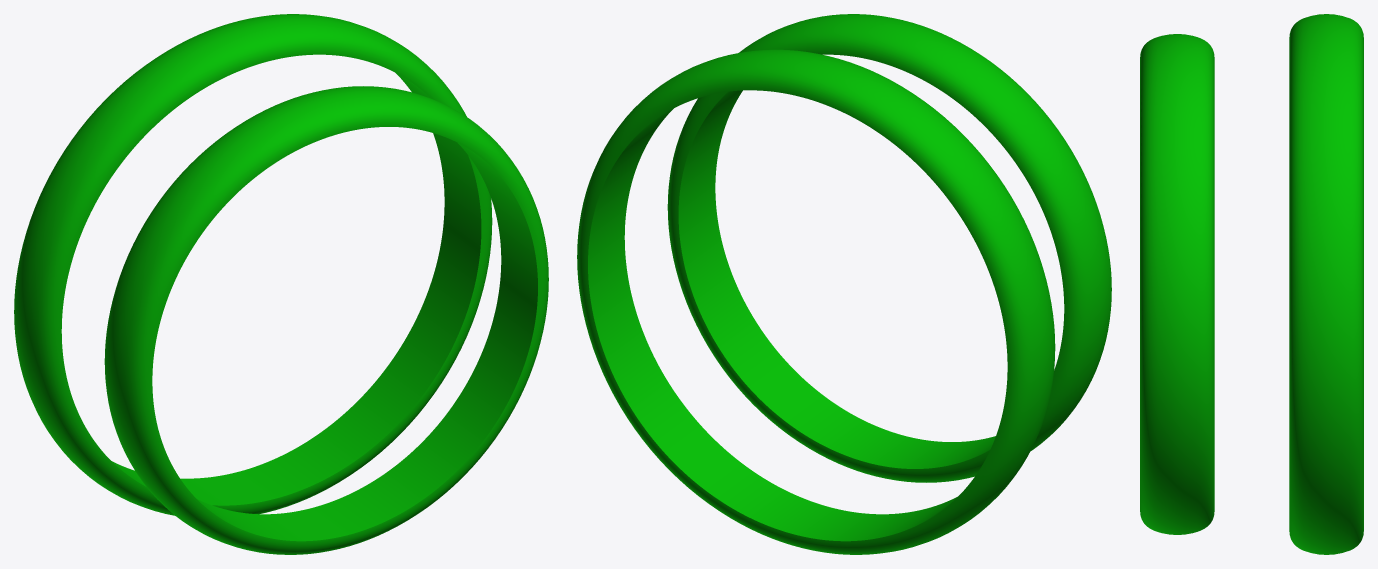
3 renders of one model, left to right at view 1: azimuth 30°, elevation 25°; view 2: azimuth 150°, elevation 25°; view 3: azimuth 270°, elevation 25°, orthographic.
Visible parts, largest first — view 1: 3mm.3dm; view 2: 3mm.3dm; view 3: 3mm.3dm.
Boxes of the visible parts, x1=… form: 3mm.3dm: x1=14, y1=14, x2=548, y2=554; 3mm.3dm: x1=577, y1=14, x2=1111, y2=554; 3mm.3dm: x1=1140, y1=14, x2=1363, y2=554.
Size of the model in its own units: 2.71 by 2.71 by 1.12.
